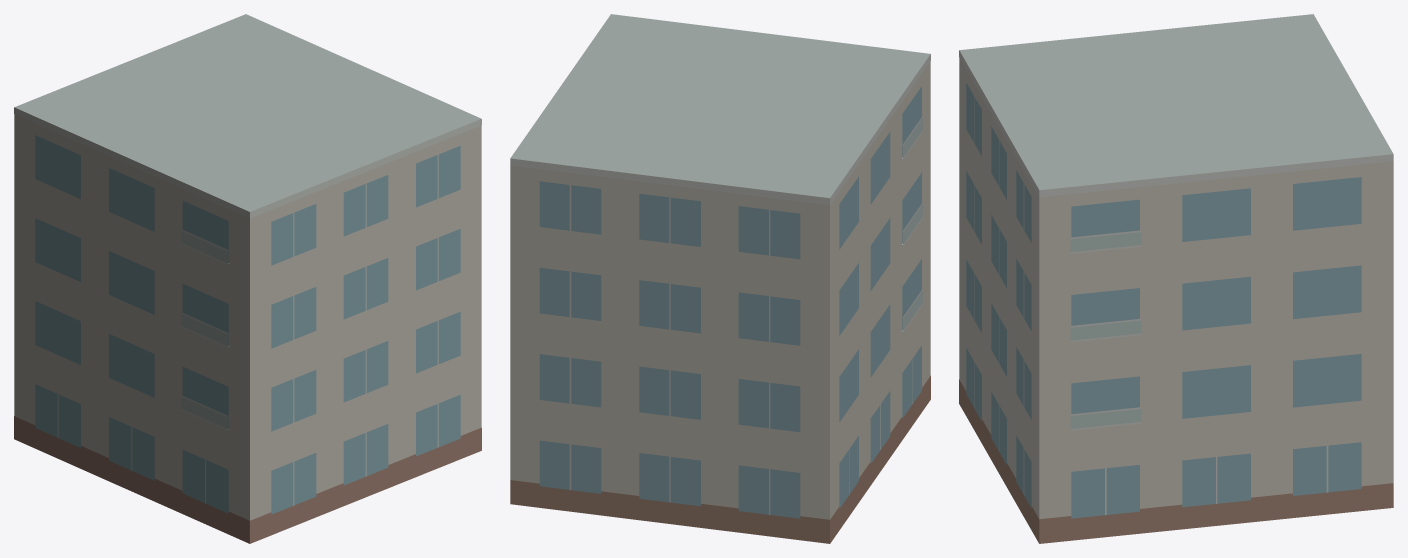
File: residential-3eea5977-7fb6-493b-a036-83a50e3a6d55.glb
3 views of the same model, side by side, from view 1: azimuth 30°, elevation 25°; view 2: azimuth 150°, elevation 25°; view 3: azimuth 270°, elevation 25° (orthographic). The views are drawn at different scales.
Parts seen in each view (by area): view 1: residential-3eea5977-7fb6-493b-a036-83a50e3a6d55.tmp; view 2: residential-3eea5977-7fb6-493b-a036-83a50e3a6d55.tmp; view 3: residential-3eea5977-7fb6-493b-a036-83a50e3a6d55.tmp.
Part boxes in pixels (<box>): residential-3eea5977-7fb6-493b-a036-83a50e3a6d55.tmp: <box>14,14,481,543</box>; residential-3eea5977-7fb6-493b-a036-83a50e3a6d55.tmp: <box>510,14,930,543</box>; residential-3eea5977-7fb6-493b-a036-83a50e3a6d55.tmp: <box>959,14,1393,543</box>.
Bounding box in the file's own units: 13.05 × 12.2 × 13.59.
